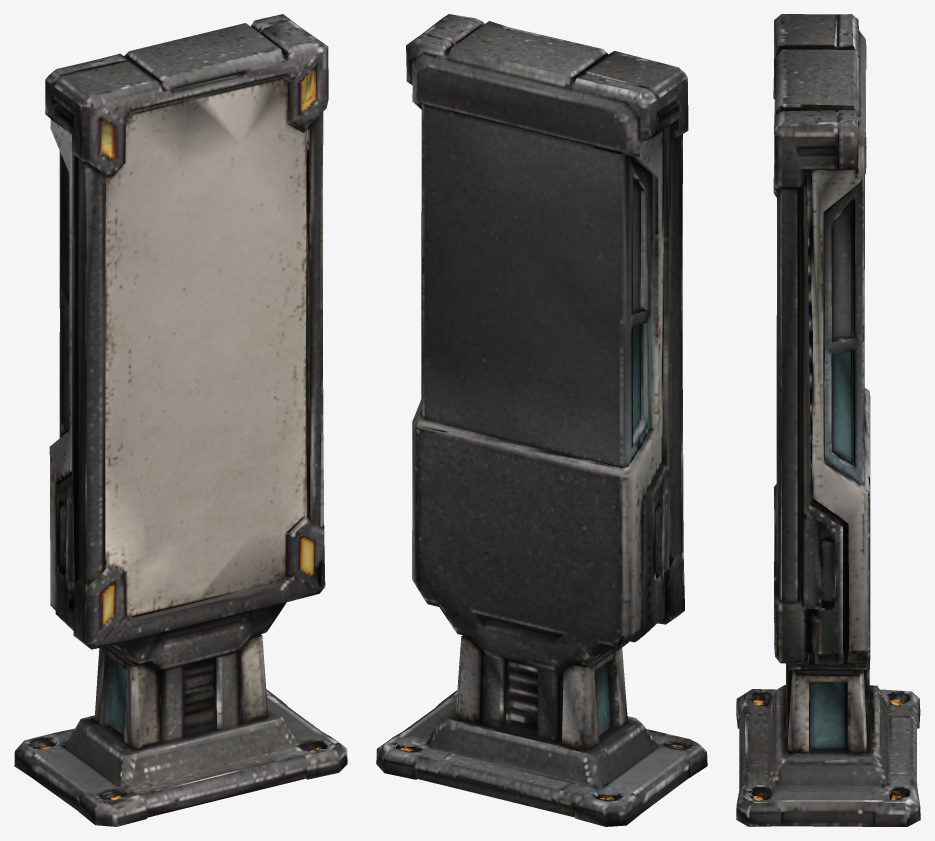
Rendered from kairox-braking-board.glb.
3 renders of one model, left to right at view 1: azimuth 30°, elevation 25°; view 2: azimuth 150°, elevation 25°; view 3: azimuth 270°, elevation 25°, orthographic. The views are drawn at different scales.
Parts seen in each view (by area): view 1: kairox-braking-board; view 2: kairox-braking-board; view 3: kairox-braking-board.
Boxes of the visible parts, box(x1,y1,x2,y2) form: kairox-braking-board: box(14, 14, 347, 826); kairox-braking-board: box(376, 14, 707, 826); kairox-braking-board: box(736, 14, 920, 826).
Size of the model in its own units: 0.85 by 2.3 by 0.55.
1 material, 1 textured.
